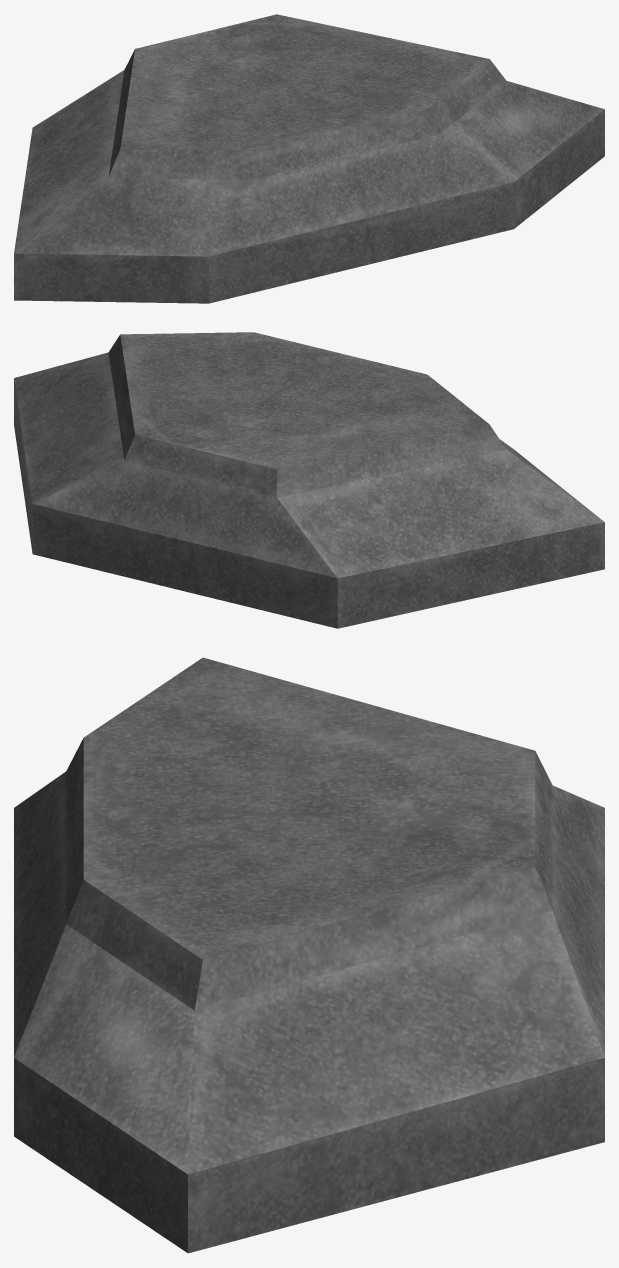
Rendered from sacofago_v_tapa_UVM.fbx.
The picture shows the model from 3 angles, top to bottom: view 1: azimuth 30°, elevation 25°; view 2: azimuth 150°, elevation 25°; view 3: azimuth 270°, elevation 25°; orthographic projection. The views are drawn at different scales.
Parts seen in each view (by area): view 1: sacofago_v_tapa; view 2: sacofago_v_tapa; view 3: sacofago_v_tapa.
Boxes of the visible parts, x1,y1,x2,y2 form: sacofago_v_tapa: (14, 14, 604, 303); sacofago_v_tapa: (14, 332, 604, 628); sacofago_v_tapa: (14, 657, 604, 1253).
Size of the model in its own units: 194 by 38.93 by 100.
